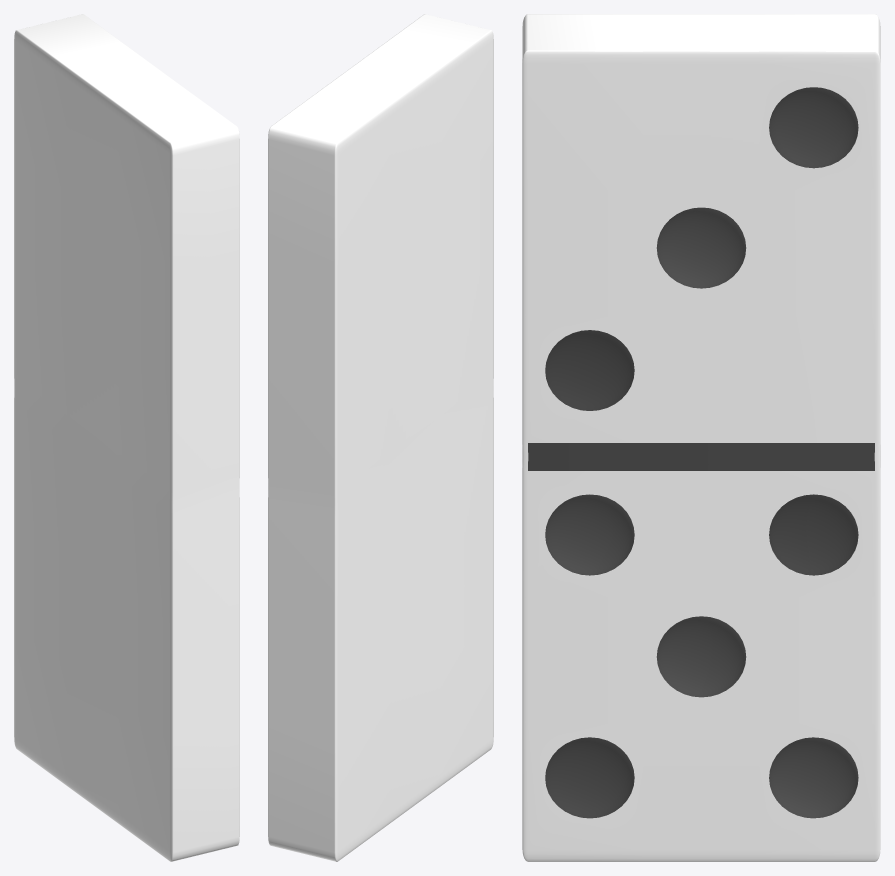
Rendered from domino.glb.
3 views of the same model, side by side, from view 1: azimuth 30°, elevation 25°; view 2: azimuth 150°, elevation 25°; view 3: azimuth 270°, elevation 25° (orthographic). The views are drawn at different scales.
Visible parts, largest first — view 1: SM_Domino_35; view 2: SM_Domino_35; view 3: SM_Domino_35.
Boxes of the visible parts, x1,y1,x2,y2 form: SM_Domino_35: (14, 14, 239, 861); SM_Domino_35: (268, 14, 493, 861); SM_Domino_35: (522, 14, 880, 861).
Bounding box in the file's own units: 0.0144 × 0.1444 × 0.0578.
1 material, 1 textured.
